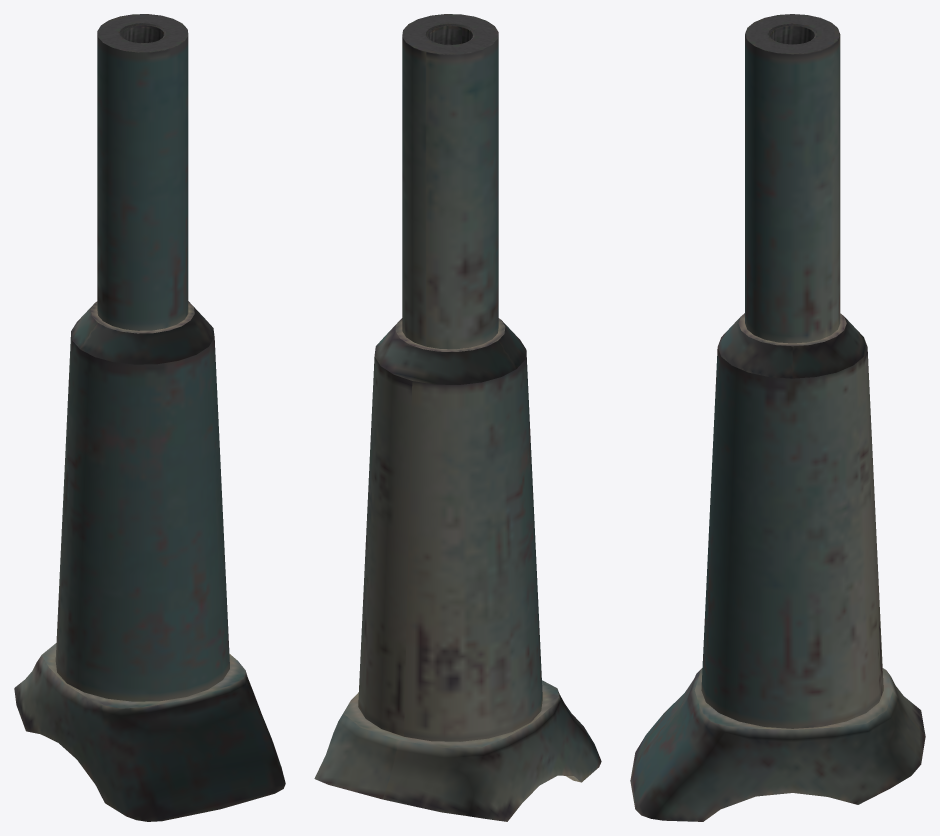
The model's file is Gun_03.glb.
3 renders of one model, left to right at view 1: azimuth 30°, elevation 25°; view 2: azimuth 150°, elevation 25°; view 3: azimuth 270°, elevation 25°, orthographic. The views are drawn at different scales.
Parts seen in each view (by area): view 1: set_0_group_0; view 2: set_0_group_0; view 3: set_0_group_0.
Boxes of the visible parts, <box> form: set_0_group_0: <box>14,14,285,821</box>; set_0_group_0: <box>314,14,601,821</box>; set_0_group_0: <box>630,14,925,821</box>.
Bounding box in the file's own units: 0.3404 × 1.37 × 0.4906.
1 material, 1 textured.
